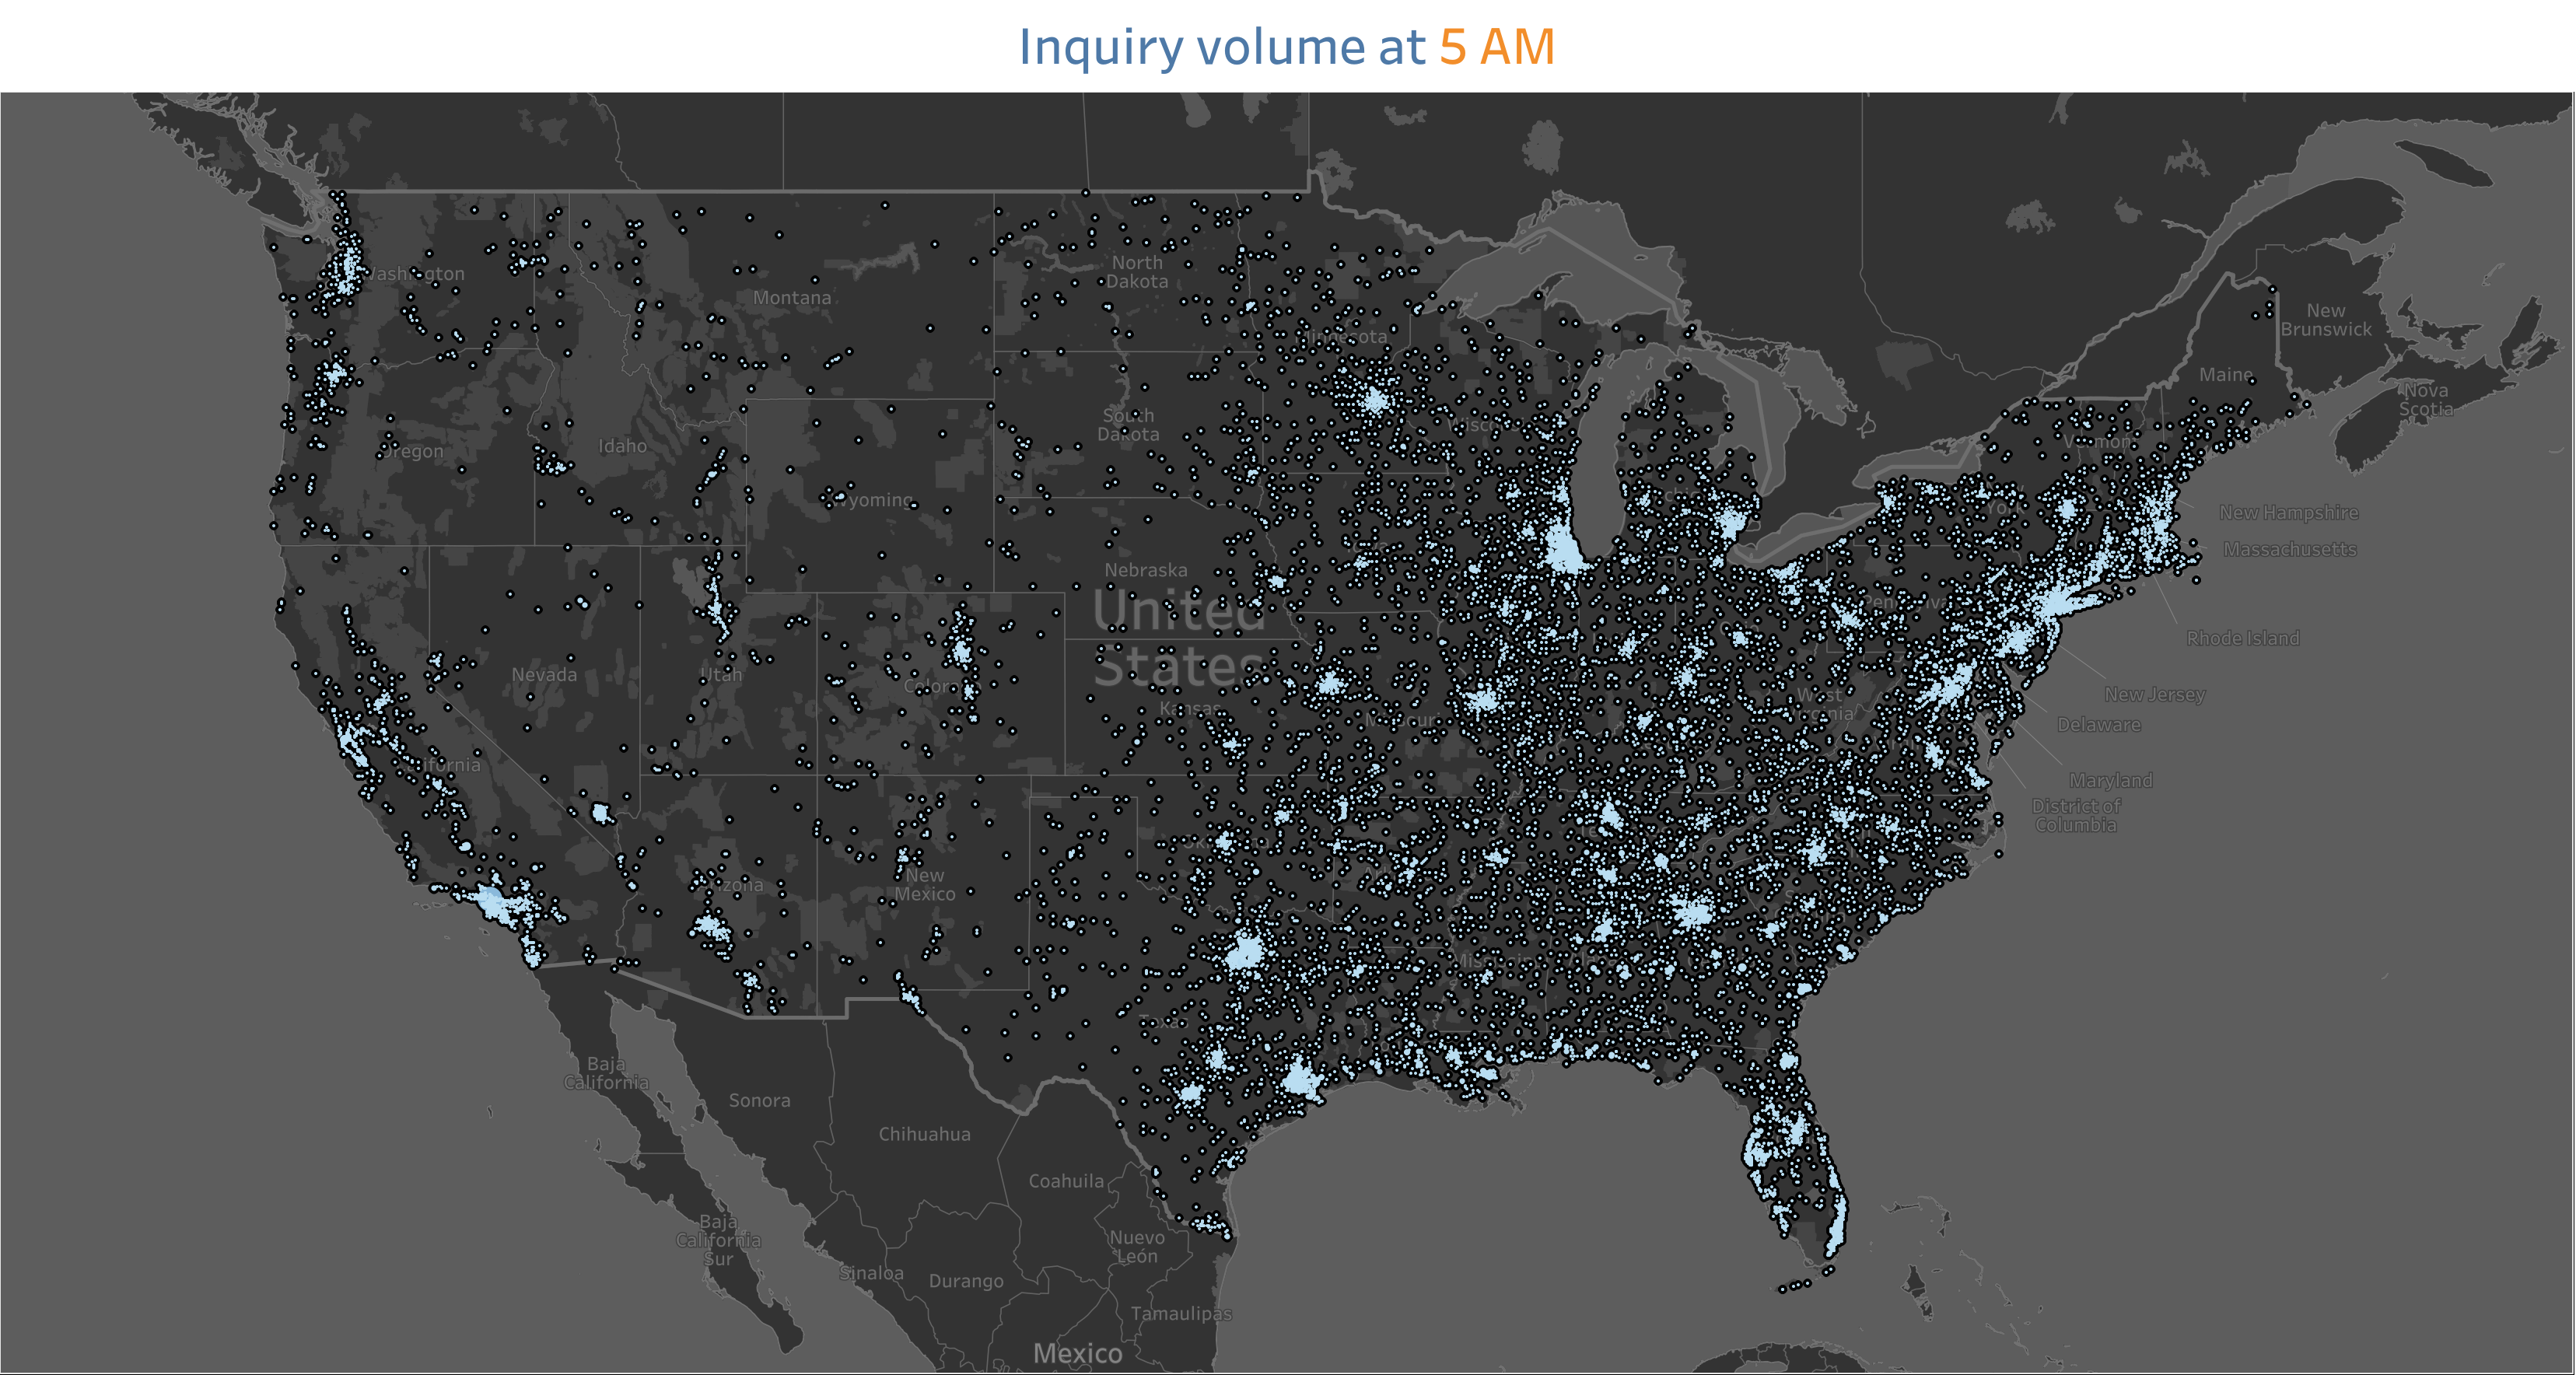

The dashboard page shown, as its layout file describes it:
{"tool":"tableau","page":{"name":"Dashboard 1","canvas":[1000,1000],"units":"permille","ordinal":0},"visuals":[{"type":"worksheet","title":"Sheet 1","mark":"Automatic","box":[4.7,8.8,990.6,982.3]},{"type":"currpage","title":"Sheet 1","box":[883,30.9,87.8,105]}]}

Visuals, with their boxes on the dashboard's canvas, which has no fixed pixel size, in thousandths of its width and height (x1, y1, x2, y2). These are canvas units, not pixel positions in the 2576x1375 screenshot, which may show the page scaled, cropped or inside an application window:
"Sheet 1" worksheet: (5,9,995,991)
"Sheet 1" currpage: (883,31,971,136)
